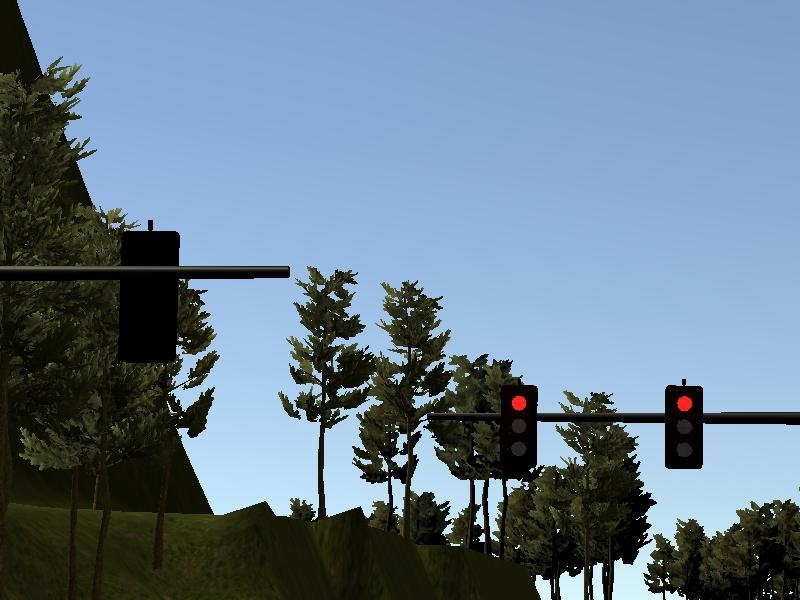RED: (497, 385, 537, 469), (664, 384, 704, 468)
